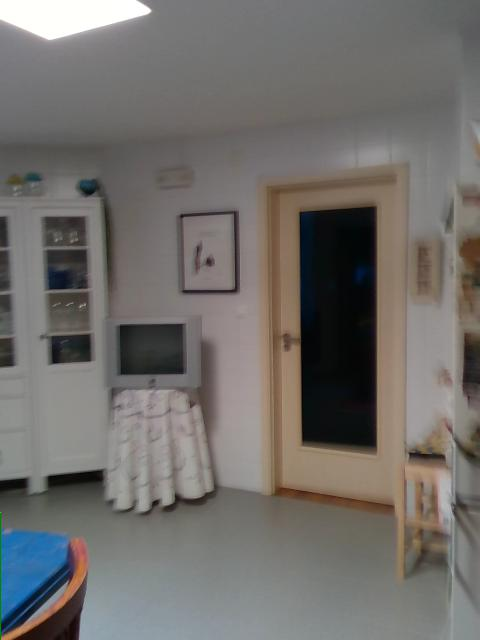closed_door: (261, 159, 409, 505)
